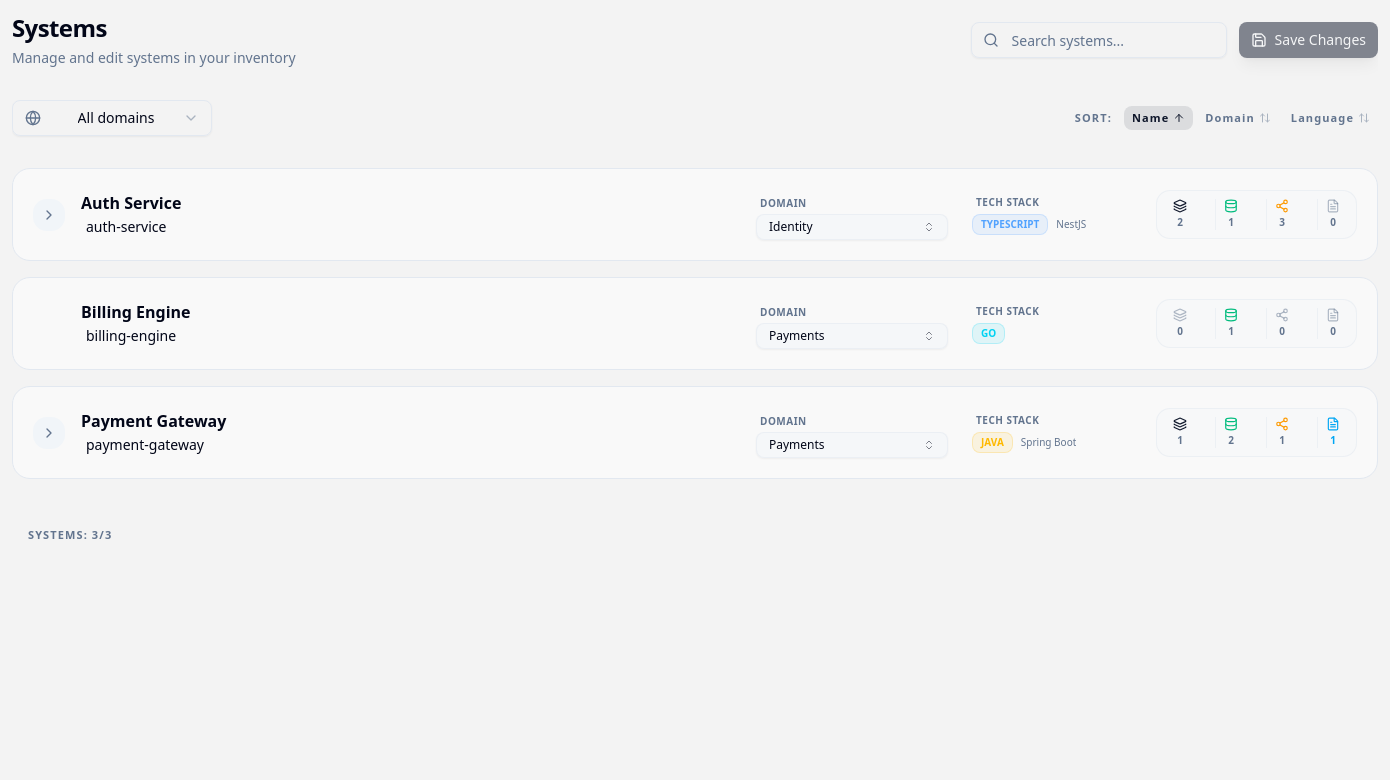
Test: SystemsTable › shows confirm button when a slug is edited
Expected: the text "Confirm" is not shown
Edit a system slug
Replace the text in the field named "Alias for Auth Service" with "auth-svc" at {"x": 201, "y": 226}, box 81,214 -> 321,238
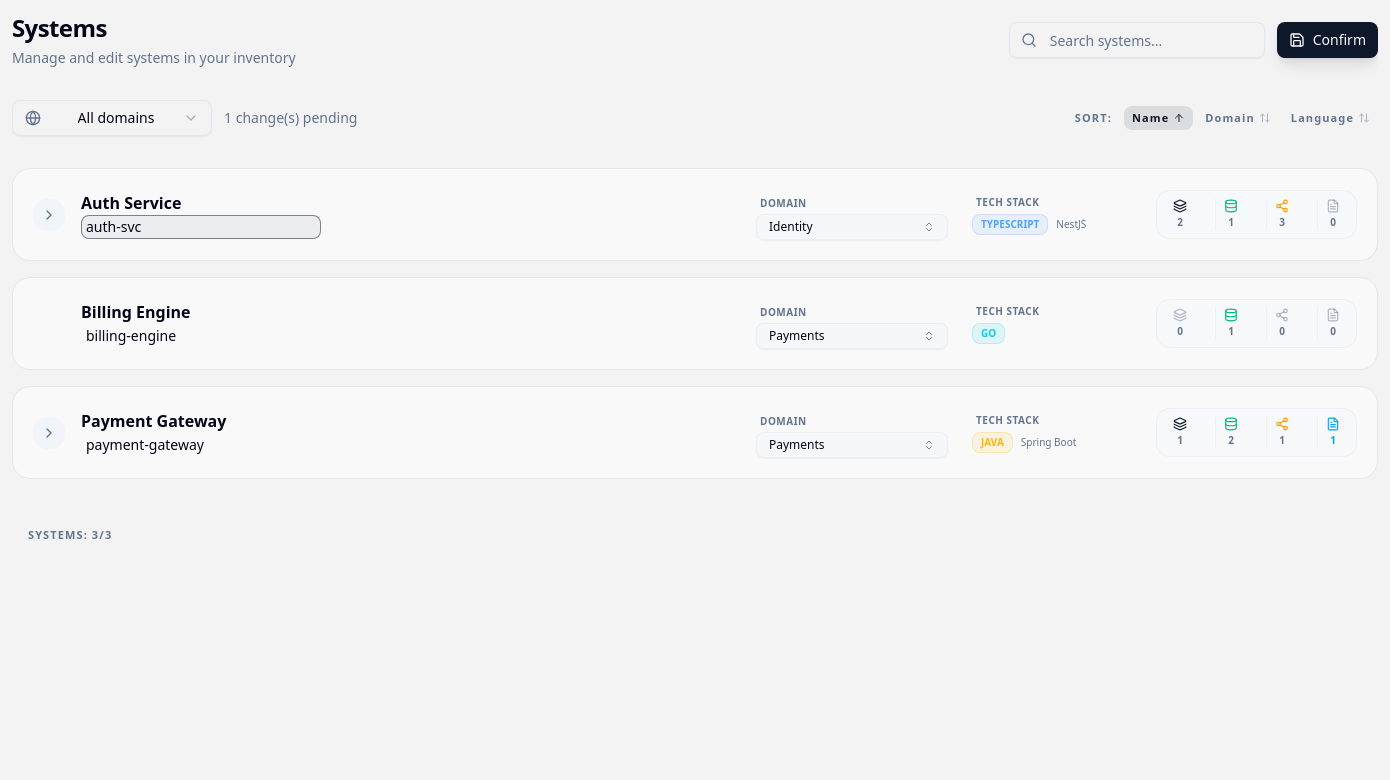
Result: the button "Confirm" is shown at 1277,22 -> 1378,58
Result: the text "1 change(s) pending" is shown at 224,108 -> 357,128
